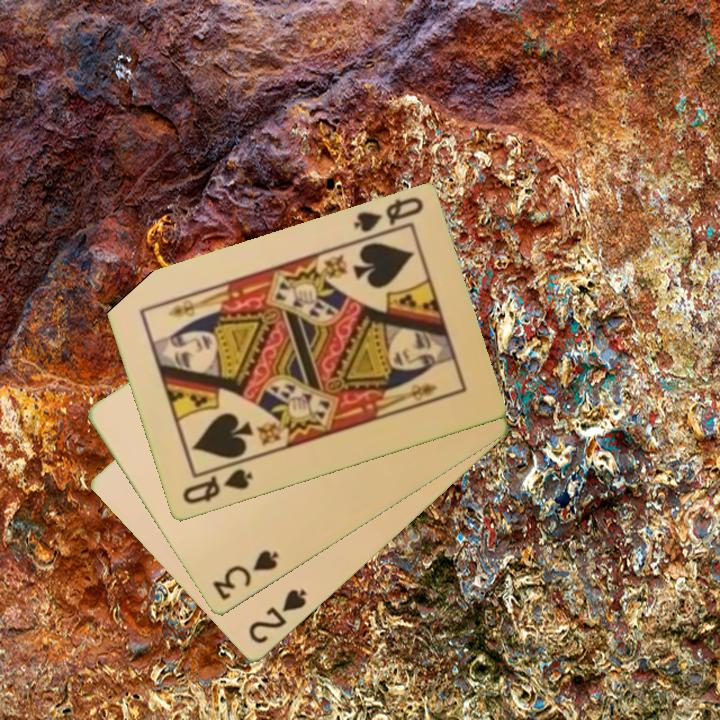2s: (245, 585, 310, 648)
3s: (208, 547, 282, 604)
Qs: (178, 465, 256, 508), (349, 194, 426, 236)
